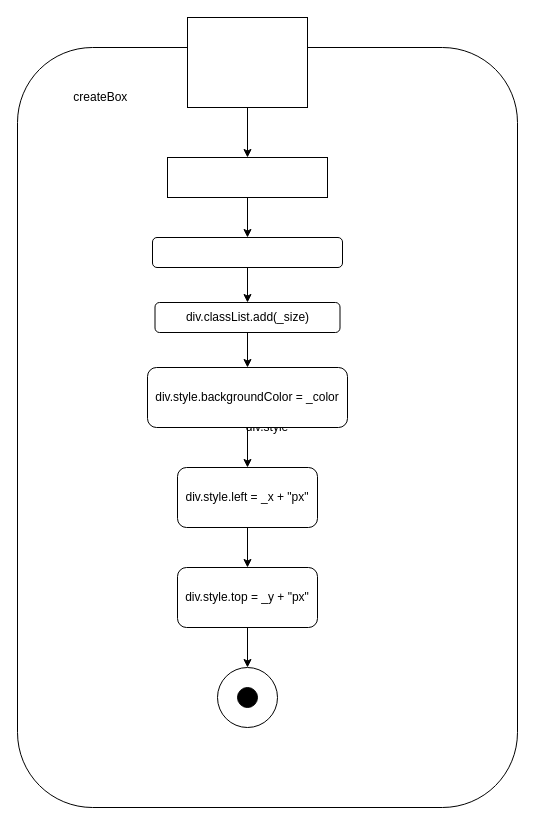
The diagram is 535 pixels wide and 825 high, and some of its shapes have lost their labels. Here are the shapes that lost their labels. From the top down, the centre of each, then its label:
At (247,62): "_x : number; _color : string; _y : number; _size : string".
At (247,177): "let div : HTMLDivElement".
At (247,252): "document.body.appendChild(div)".
